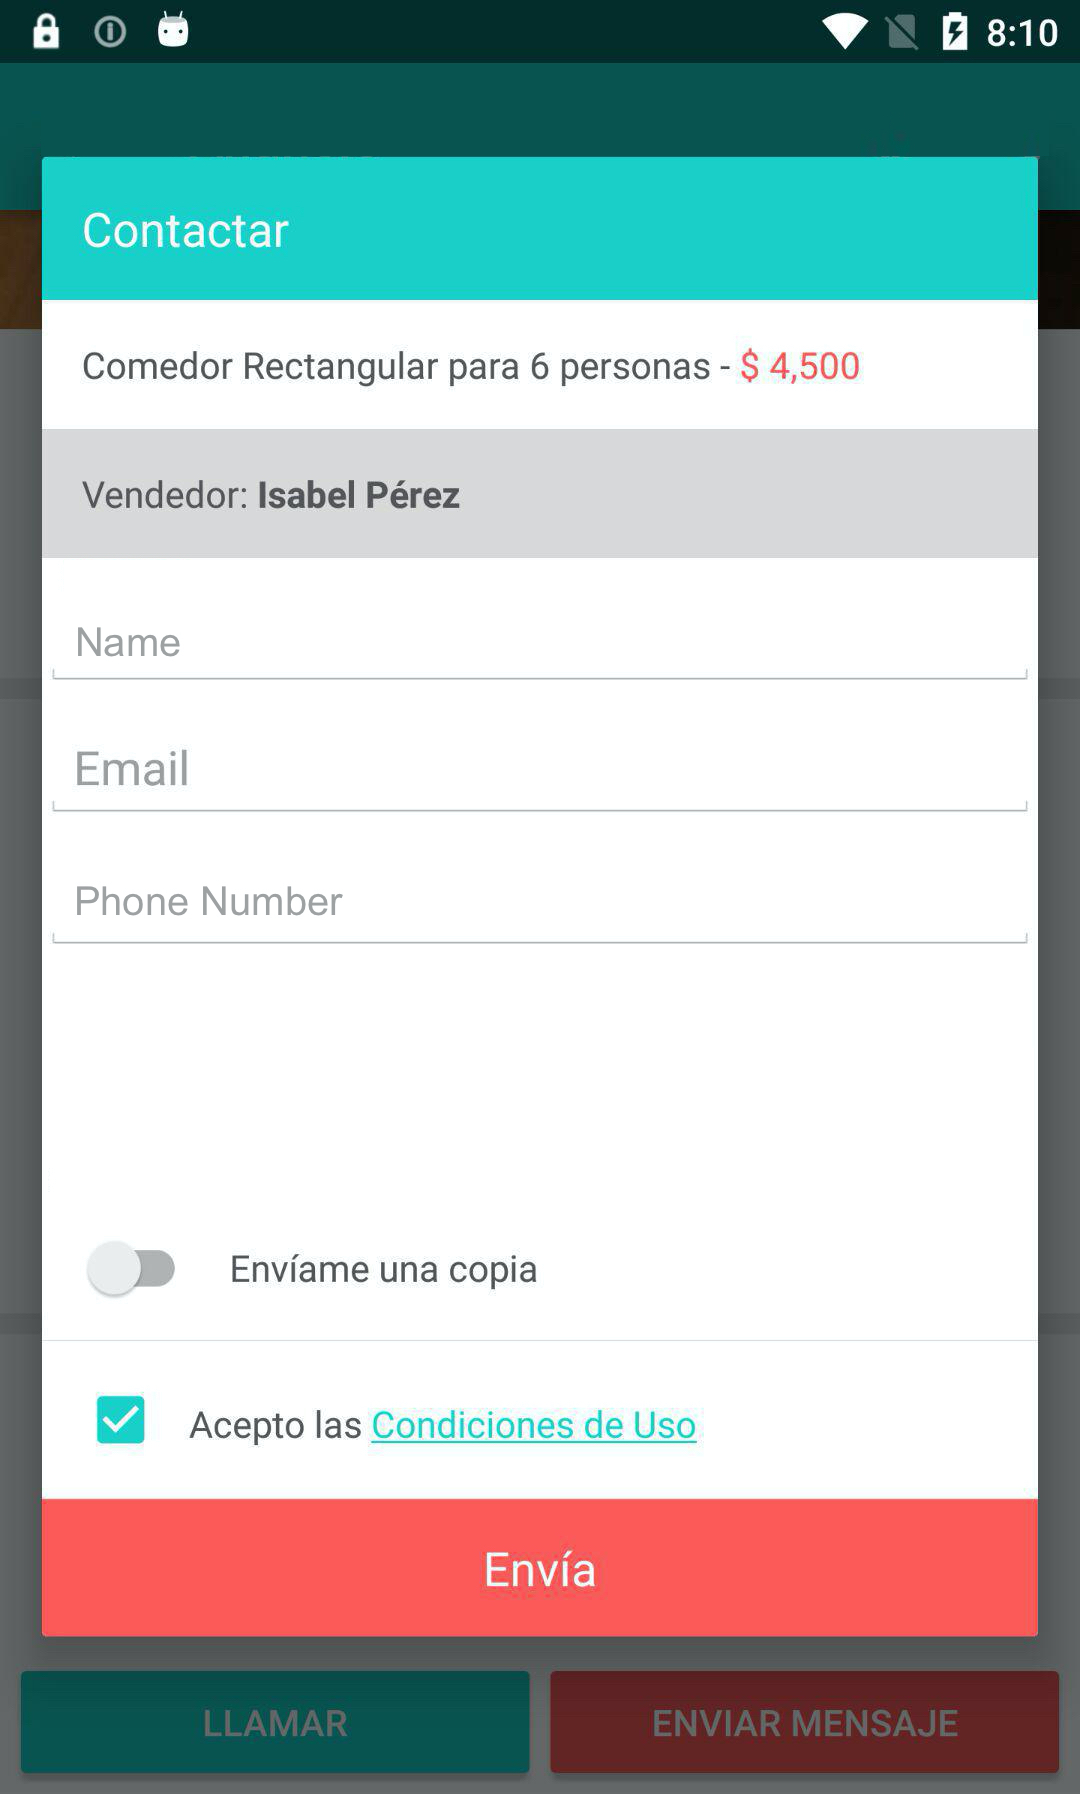CheckedTextView: (96, 1394, 706, 1447)
EditText: (53, 747, 1029, 814), (51, 884, 1029, 946), (53, 627, 1029, 682)
Modal: (44, 158, 1040, 1639)
Switch: (88, 1240, 177, 1299)
Text: (85, 347, 865, 388), (190, 1408, 706, 1447), (83, 478, 474, 520), (231, 1251, 544, 1292), (77, 884, 345, 918), (83, 213, 291, 250), (77, 747, 190, 787), (77, 627, 181, 657)
TextButton: (44, 1501, 1039, 1638), (20, 1670, 532, 1775), (550, 1670, 1061, 1775)
UpperTaskBar: (1, 1, 1080, 64)
